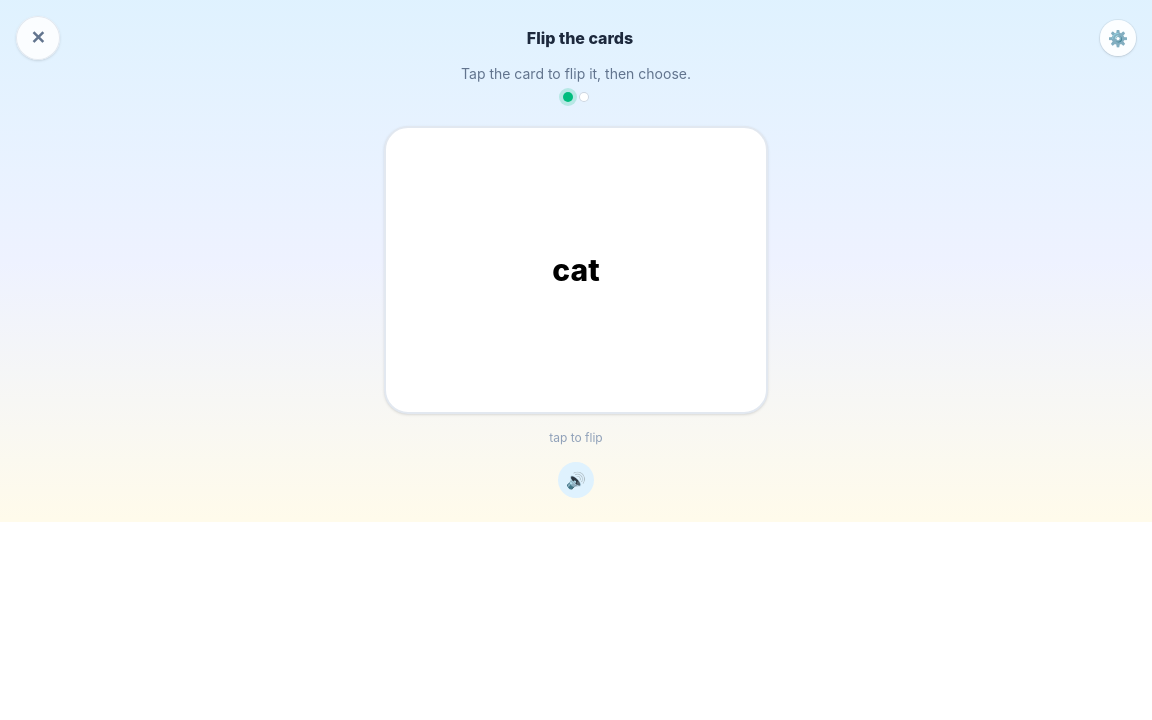
Test case: FlashcardScreen › flips to reveal back, then advances on Got it
The image size is (1152, 720).
Step 1. Click the button with aria-label "flip" → (576, 270), box [384,126,768,414]
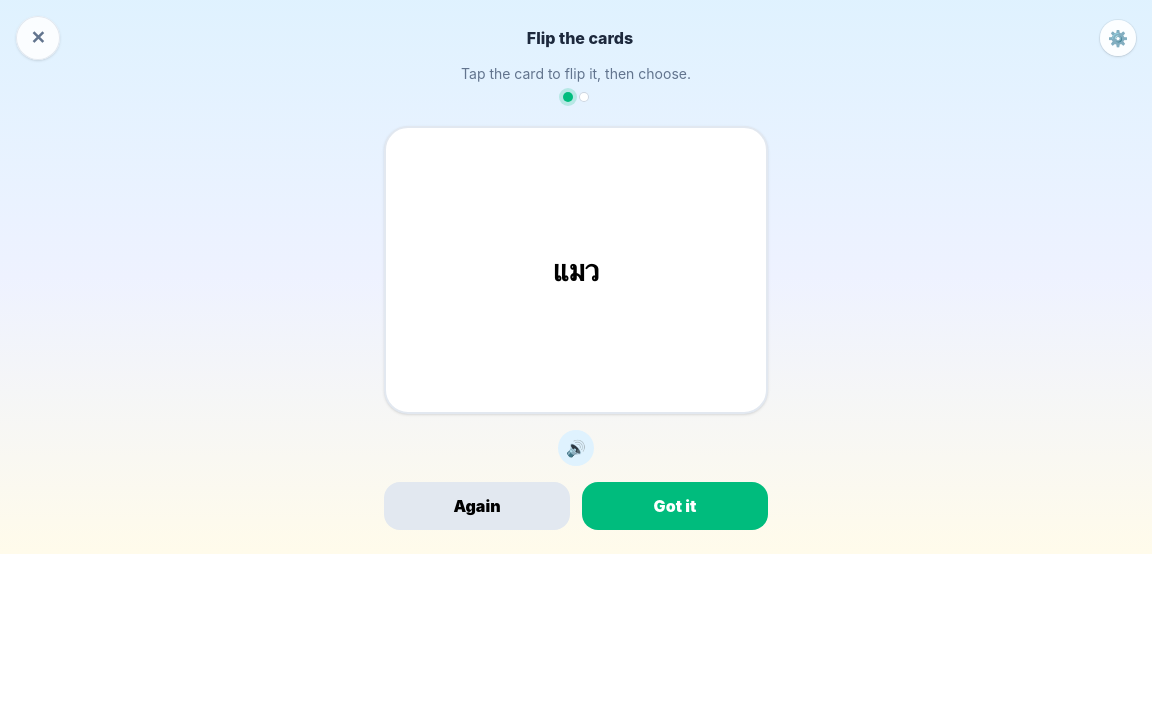
Check: the button "แมว" is shown, box [384,126,768,414]
Step 2. Click the button "Got it" → (675, 506), box [582,482,768,530]
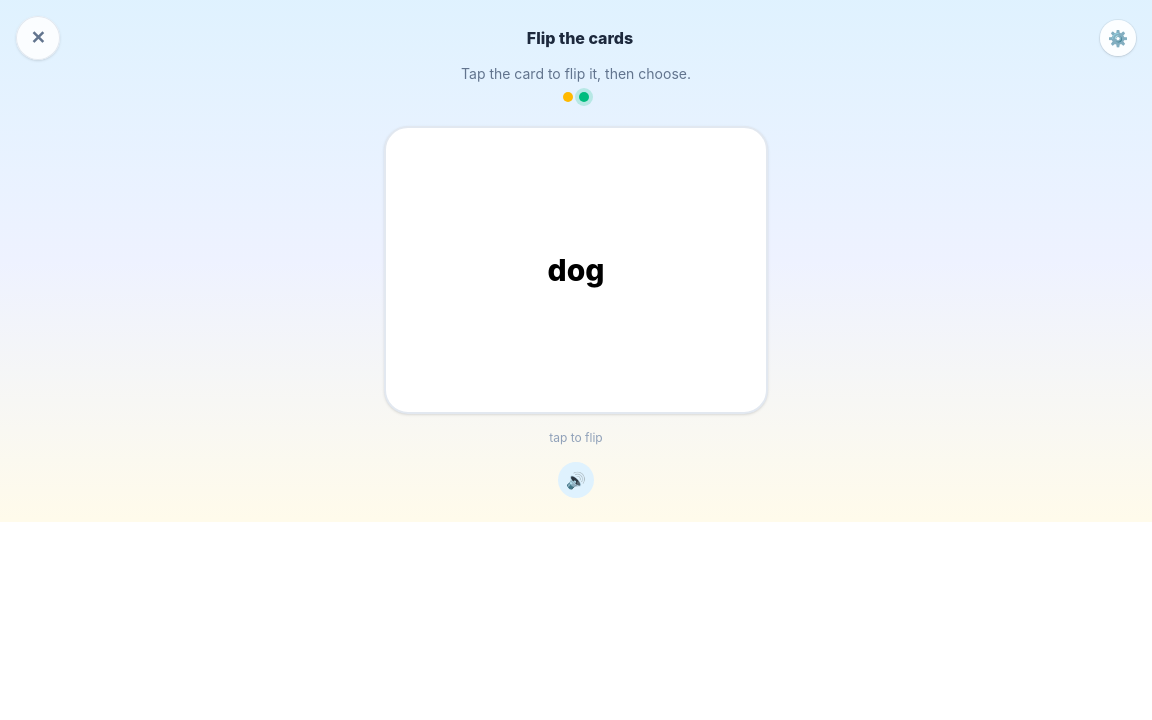
Check: the button "dog" is shown, box [384,126,768,414]
